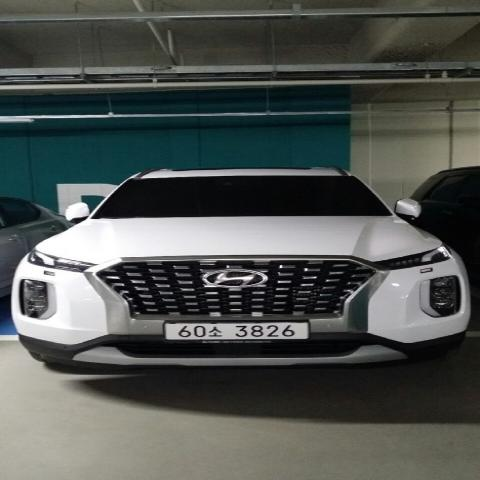LP: (155, 314, 310, 346)
